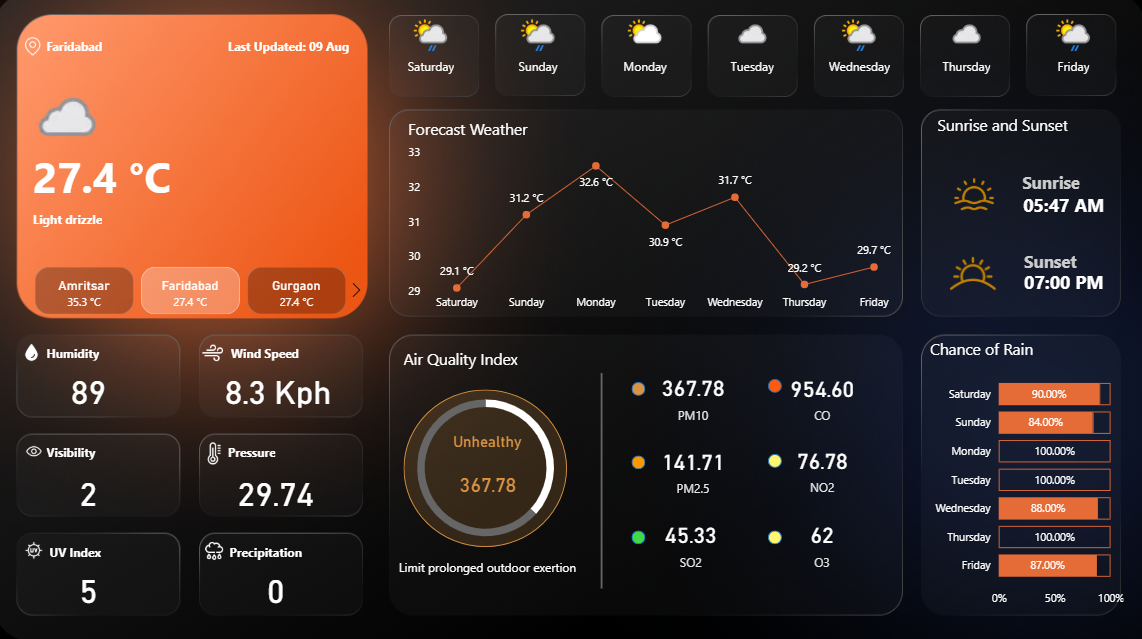

The dashboard page shown, as its layout file describes it:
{"tool":"powerbi","page":{"name":"Page 1","canvas":[1280,720],"ordinal":0},"visuals":[{"type":"shape","box":[455,438.3,181.7,175],"z":0},{"type":"advancedSlicerVisual","fields":{"Values":["Location.location.name"]},"box":[19.5,295.9,398.3,63.4],"z":1000},{"type":"shape","box":[43.9,138.2,235.7,123.6],"z":2000},{"type":"shape","box":[43.9,187,177.2,125.2],"z":3000},{"type":"shape","box":[59.1,25.6,137.4,62.3],"z":4000},{"type":"shape","box":[260.1,34.1,160.9,45.5],"z":5000},{"type":"image","box":[22.4,41.5,43.1,30.4],"z":6000},{"type":"cardVisual","fields":{"Data":["Min(Current.current.condition.icon)"]},"box":[14.6,73.2,118.7,92.7],"z":7000},{"type":"shape","box":[59.1,375.5,161.4,44.7],"z":8000},{"type":"image","box":[22.4,381.8,39.9,30.4],"z":9000},{"type":"image","box":[22.4,492.1,44.7,30.4],"z":10000},{"type":"shape","box":[59.1,485.7,161.4,44.7],"z":11000},{"type":"image","box":[22.4,602.3,44.7,30.4],"z":12000},{"type":"shape","box":[62.3,595.9,161.4,44.7],"z":13000},{"type":"image","box":[223.7,380.2,39.9,35.1],"z":14000},{"type":"image","box":[225.3,492.1,39.9,35.1],"z":15000},{"type":"image","box":[225.3,600.7,39.9,35.1],"z":16000},{"type":"shape","box":[263.6,375.5,161.4,44.7],"z":17000},{"type":"shape","box":[260.4,485.7,161.4,44.7],"z":18000},{"type":"shape","box":[262,595.9,161.4,44.7],"z":19000},{"type":"card","fields":{"Values":["Sum(Current.current.humidity)"]},"box":[45.5,412.9,118.7,50.4],"z":20000},{"type":"card","fields":{"Values":["_Measure.Wind_Speed"]},"box":[226,412.9,177.2,50.4],"z":21000},{"type":"card","fields":{"Values":["Sum(Current.current.vis_km)"]},"box":[45.5,523.5,118.7,55.3],"z":22000},{"type":"card","fields":{"Values":["Sum(Current.current.pressure_in)"]},"box":[253.6,523.5,118.7,55.3],"z":23000},{"type":"card","fields":{"Values":["Sum(Current.current.uv)"]},"box":[45.5,632.4,118.7,55.3],"z":24000},{"type":"card","fields":{"Values":["Sum(Current.current.precip_mm)"]},"box":[253.6,632.4,118.7,55.3],"z":25000},{"type":"advancedSlicerVisual","fields":{"Values":["Forecast_Day.Day_Name"]},"box":[424.3,14.6,835.6,105.7],"z":26000},{"type":"lineChart","title":"Forecast Weather","fields":{"Y":["Sum(Forecast_Day.forecast.forecastday.day.avgtemp_c)"],"Category":["Forecast_Day.Day_Name"]},"box":[455.6,137,558.4,222.7],"z":27000},{"type":"shape","box":[1048.1,121.4,161.4,44.7],"z":28000},{"type":"shape","box":[1105.6,186.9,139,41.5],"z":29000},{"type":"shape","box":[1108.8,274.8,131,41.5],"z":30000},{"type":"shape","box":[1116.8,212.5,143.8,43.1],"z":31000},{"type":"shape","box":[1120,295.6,137.4,47.9],"z":32000},{"type":"image","box":[1060.9,193.3,54.3,55.9],"z":33000},{"type":"image","box":[1048.1,260.4,78.3,99.1],"z":34000},{"type":"hundredPercentStackedBarChart","title":"Chance of Rain","fields":{"Category":["Forecast_Day.Day_Name"],"Y":["Sum(Forecast_Day.forecast.forecastday.day.daily_chance_of_rain)","Current.Left_value_rain"]},"box":[1035.3,381.8,225.3,306.8],"z":35000},{"type":"shape","box":[455.3,381.8,174.1,44.7],"z":36000},{"type":"card","fields":{"Values":["Sum(Current.current.air_quality.co)"]},"box":[868.5,404.3,103.2,81.5],"z":37000},{"type":"card","fields":{"Values":["Sum(Current.current.air_quality.no2)"]},"box":[868.5,485.8,103.2,81.5],"z":38000},{"type":"card","fields":{"Values":["Sum(Current.current.air_quality.o3)"]},"box":[868.4,568.6,102.8,80.5],"z":39000},{"type":"card","fields":{"Values":["Sum(Current.current.air_quality.pm10)"]},"box":[724.5,404.2,102.8,80.5],"z":40000},{"type":"card","fields":{"Values":["Sum(Current.current.air_quality.pm2_5)"]},"box":[724.5,486.4,102.8,80.5],"z":41000},{"type":"card","fields":{"Values":["Sum(Current.current.air_quality.so2)"]},"box":[724.5,568.6,97.6,80.5],"z":42000},{"type":"shape","box":[709.1,429.9,15.4,15.4],"z":43000},{"type":"shape","box":[859.8,426.5,15.4,15.4],"z":44000},{"type":"shape","box":[709.1,512.1,15.4,15.4],"z":45000},{"type":"shape","box":[709.1,594.3,15.4,15.4],"z":46000},{"type":"shape","box":[859.8,510.4,15.4,15.4],"z":47000},{"type":"shape","box":[859.8,594.3,15.4,15.4],"z":48000},{"type":"shape","box":[600.7,420.2,150.2,239.7],"z":49000},{"type":"card","fields":{"Values":["Sum(Current.current.air_quality.pm10)"]},"box":[493.3,486.7,110,95],"z":50000},{"type":"donutChart","fields":{"Y":["Sum(Current.current.air_quality.pm10)","_Measure.left_value_PM10"]},"box":[441.7,425,208.3,200],"z":51000},{"type":"shape","box":[443.3,608.3,210,53.3],"z":51001}]}

Visuals, with their boxes in screenshot pixels (x1, y1, x2, y2), scaled from the page's 1280x720 canvas onto the 1142x639 screenshot:
shape: (left=406, top=389, right=568, bottom=544)
advancedSlicerVisual - Location.location.name: (left=17, top=263, right=373, bottom=319)
shape: (left=39, top=123, right=249, bottom=232)
shape: (left=39, top=166, right=197, bottom=277)
shape: (left=53, top=23, right=175, bottom=78)
shape: (left=232, top=30, right=376, bottom=71)
image: (left=20, top=37, right=58, bottom=64)
cardVisual - Min(Current.current.condition.icon): (left=13, top=65, right=119, bottom=147)
shape: (left=53, top=333, right=197, bottom=373)
image: (left=20, top=339, right=56, bottom=366)
image: (left=20, top=437, right=60, bottom=464)
shape: (left=53, top=431, right=197, bottom=471)
image: (left=20, top=535, right=60, bottom=562)
shape: (left=56, top=529, right=200, bottom=569)
image: (left=200, top=337, right=235, bottom=369)
image: (left=201, top=437, right=237, bottom=468)
image: (left=201, top=533, right=237, bottom=564)
shape: (left=235, top=333, right=379, bottom=373)
shape: (left=232, top=431, right=376, bottom=471)
shape: (left=234, top=529, right=378, bottom=569)
card - Sum(Current.current.humidity): (left=41, top=366, right=146, bottom=411)
card - _Measure.Wind_Speed: (left=202, top=366, right=360, bottom=411)
card - Sum(Current.current.vis_km): (left=41, top=465, right=146, bottom=514)
card - Sum(Current.current.pressure_in): (left=226, top=465, right=332, bottom=514)
card - Sum(Current.current.uv): (left=41, top=561, right=146, bottom=610)
card - Sum(Current.current.precip_mm): (left=226, top=561, right=332, bottom=610)
advancedSlicerVisual - Forecast_Day.Day_Name: (left=379, top=13, right=1124, bottom=107)
"Forecast Weather" lineChart: (left=406, top=122, right=905, bottom=319)
shape: (left=935, top=108, right=1079, bottom=147)
shape: (left=986, top=166, right=1110, bottom=203)
shape: (left=989, top=244, right=1106, bottom=281)
shape: (left=996, top=189, right=1125, bottom=227)
shape: (left=999, top=262, right=1122, bottom=305)
image: (left=947, top=172, right=995, bottom=221)
image: (left=935, top=231, right=1005, bottom=319)
"Chance of Rain" hundredPercentStackedBarChart: (left=924, top=339, right=1125, bottom=611)
shape: (left=406, top=339, right=562, bottom=379)
card - Sum(Current.current.air_quality.co): (left=775, top=359, right=867, bottom=431)
card - Sum(Current.current.air_quality.no2): (left=775, top=431, right=867, bottom=503)
card - Sum(Current.current.air_quality.o3): (left=775, top=505, right=866, bottom=576)
card - Sum(Current.current.air_quality.pm10): (left=646, top=359, right=738, bottom=430)
card - Sum(Current.current.air_quality.pm2_5): (left=646, top=432, right=738, bottom=503)
card - Sum(Current.current.air_quality.so2): (left=646, top=505, right=733, bottom=576)
shape: (left=633, top=382, right=646, bottom=395)
shape: (left=767, top=379, right=781, bottom=392)
shape: (left=633, top=454, right=646, bottom=468)
shape: (left=633, top=527, right=646, bottom=541)
shape: (left=767, top=453, right=781, bottom=467)
shape: (left=767, top=527, right=781, bottom=541)
shape: (left=536, top=373, right=670, bottom=586)
card - Sum(Current.current.air_quality.pm10): (left=440, top=432, right=538, bottom=516)
donutChart - Sum(Current.current.air_quality.pm10) x _Measure.left_value_PM10: (left=394, top=377, right=580, bottom=555)
shape: (left=396, top=540, right=583, bottom=587)
